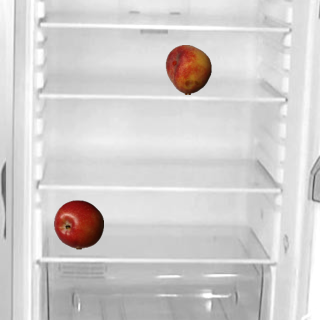Apple Braeburn: (53, 199, 103, 249)
Peach: (163, 44, 213, 94)
